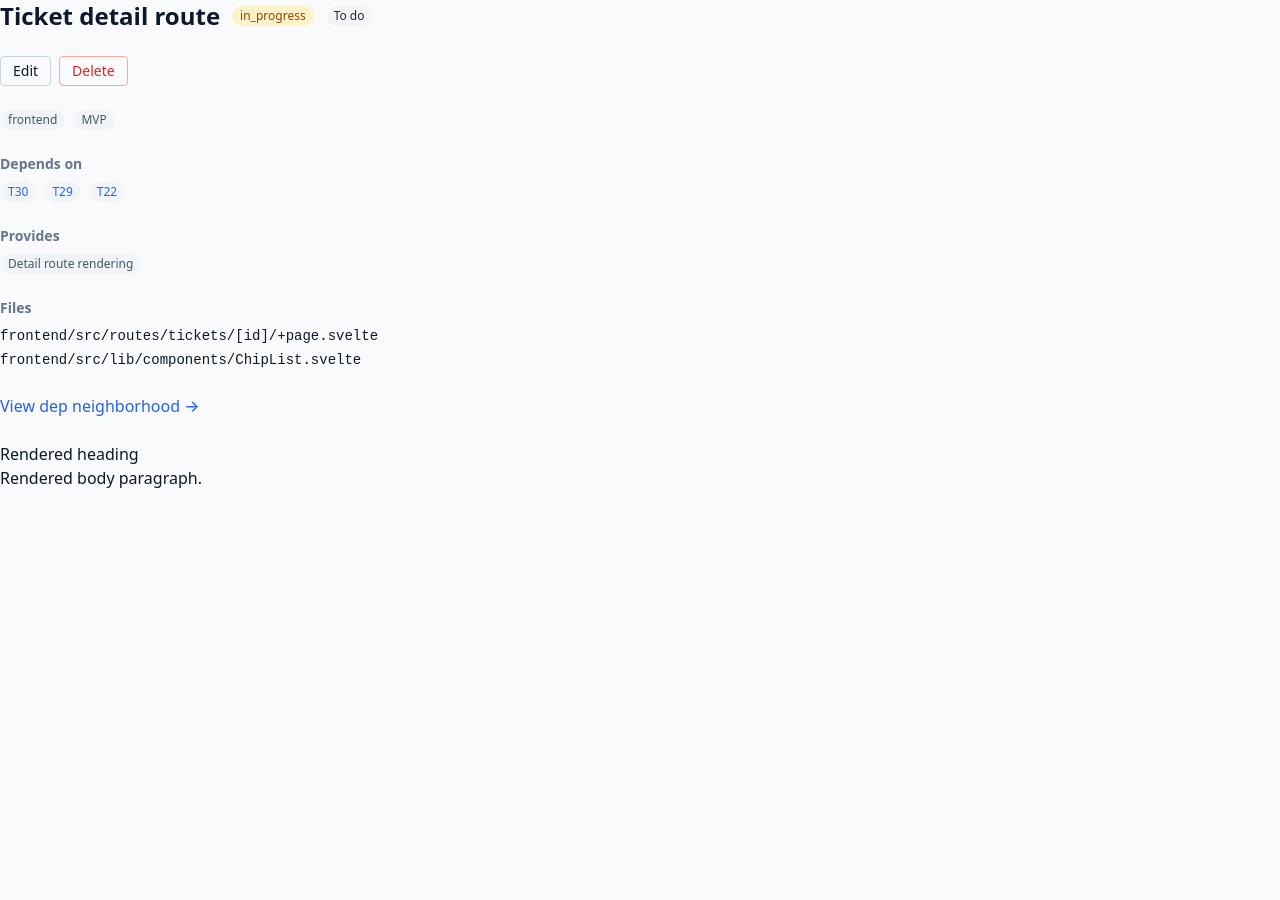
it: ticket detail write affordances › opens the edit dialog seeded from the ticket
The width and height of the screenshot is (1280, 900).
Click the button "Edit": (26, 71) [0,56,51,86]
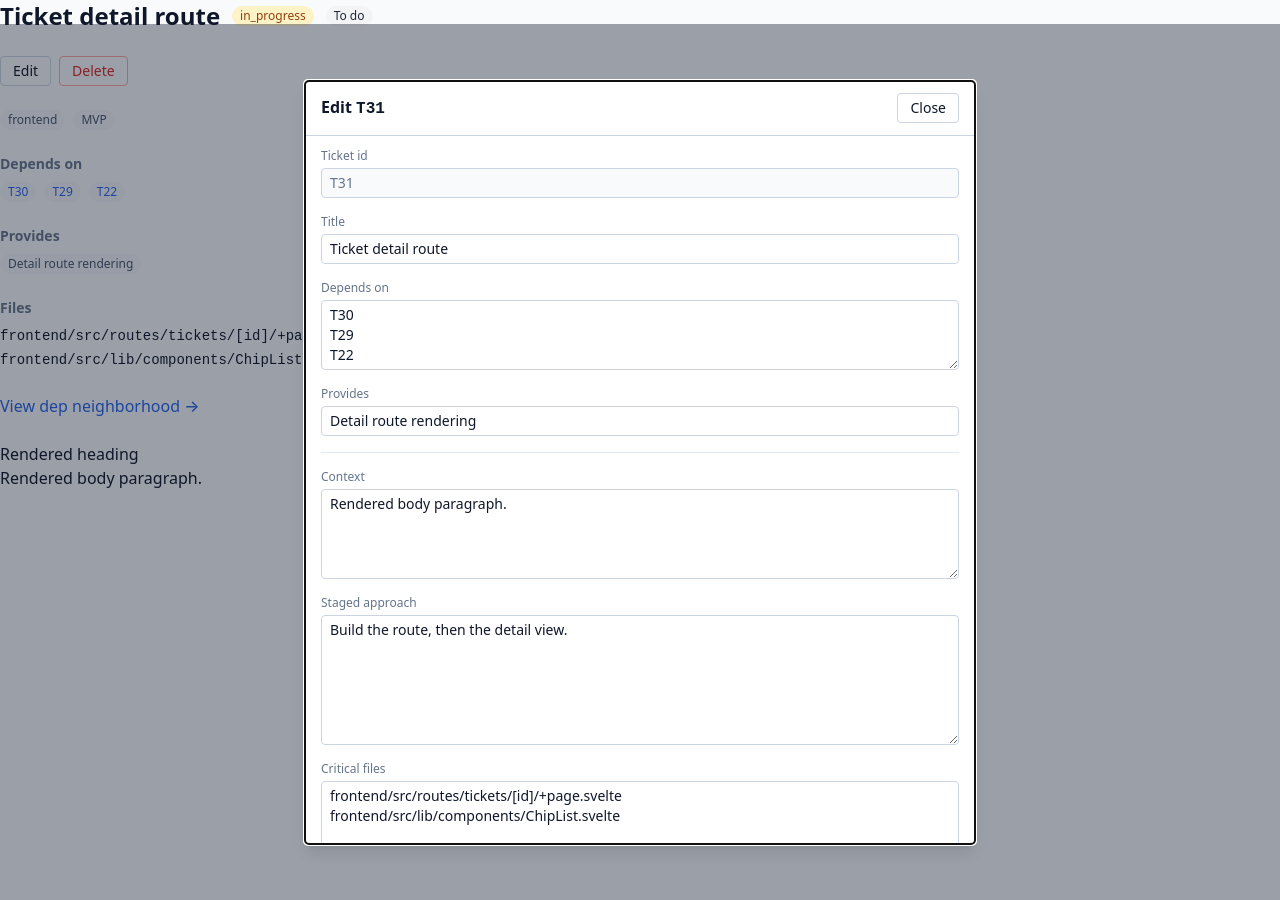
Expected: the dialog is shown, [304,80,976,844]
Expected: the field labelled "Title" holds "Ticket detail route", [321,234,959,264]
